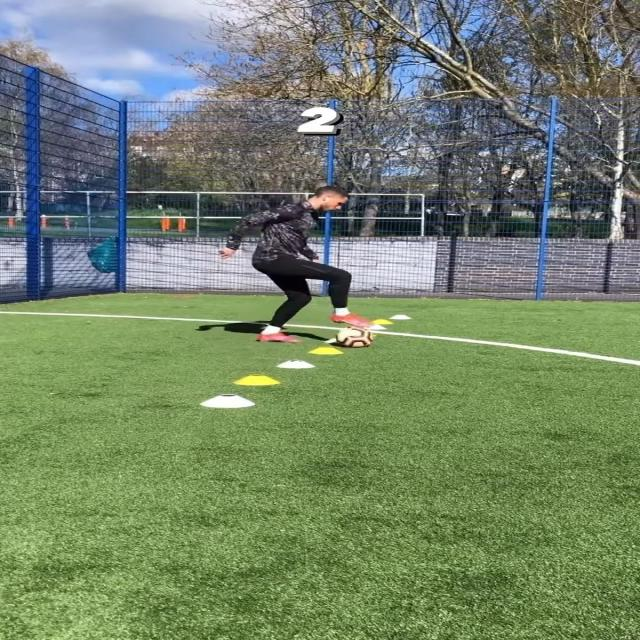Soccer Ball: (336, 326, 374, 348)
